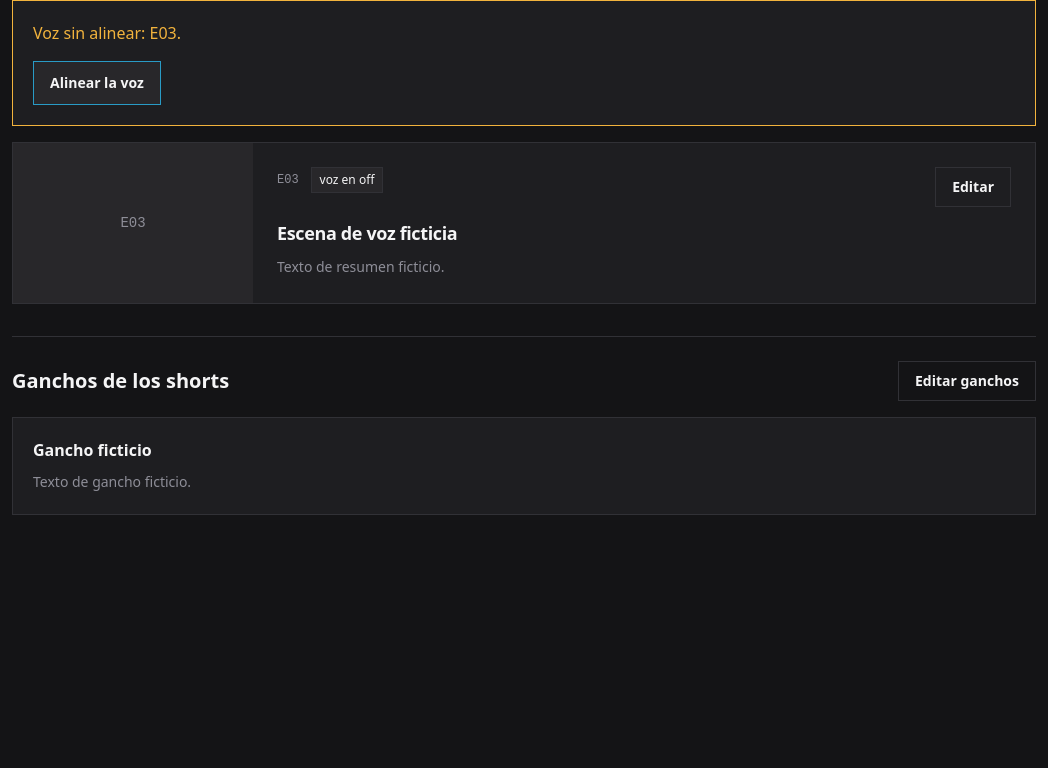
it: GuionEditable: aviso del montaje › al pasar de alinear la voz a preparar el montaje no arrastra estado ni enseña un Hecho antiguo
The width and height of the screenshot is (1048, 768).
Later steps or results of the test are not shown.
Click the button "Alinear la voz".
click(97, 83)  # box x1=33 y1=61 x2=161 y2=105
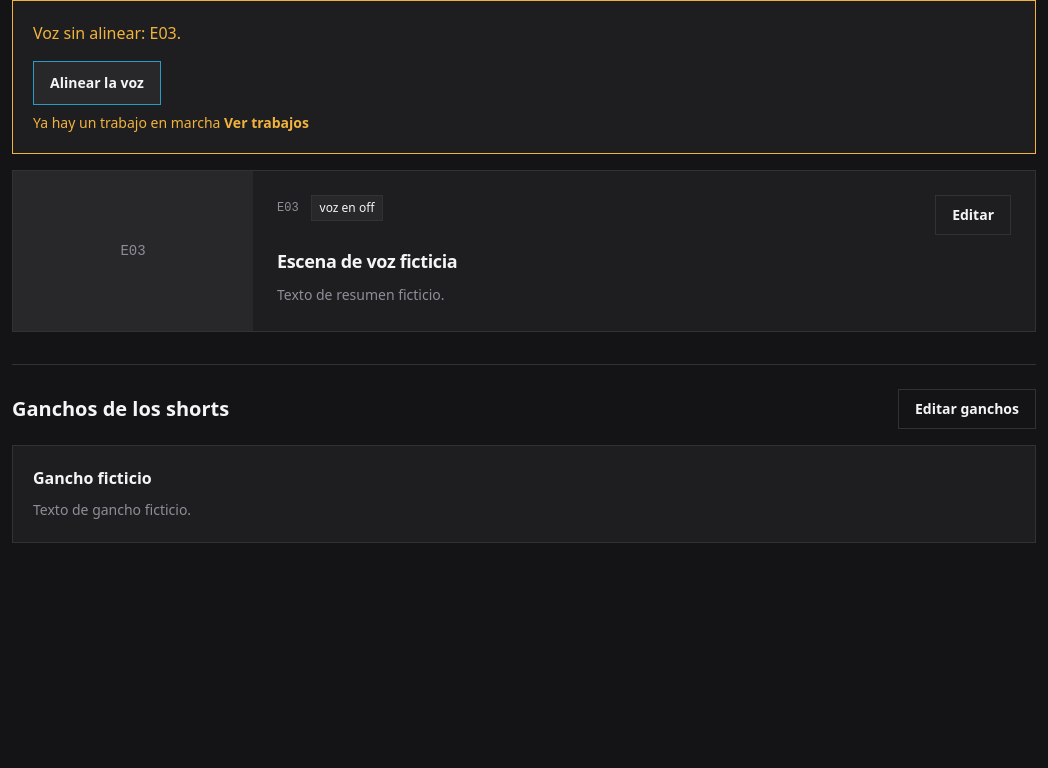
Result: the message shows "Ya hay un trabajo en marcha" at x1=33 y1=113 x2=220 y2=132
Click the button "Alinear la voz".
click(97, 83)  # box x1=33 y1=61 x2=161 y2=105
Wait 2000 ms
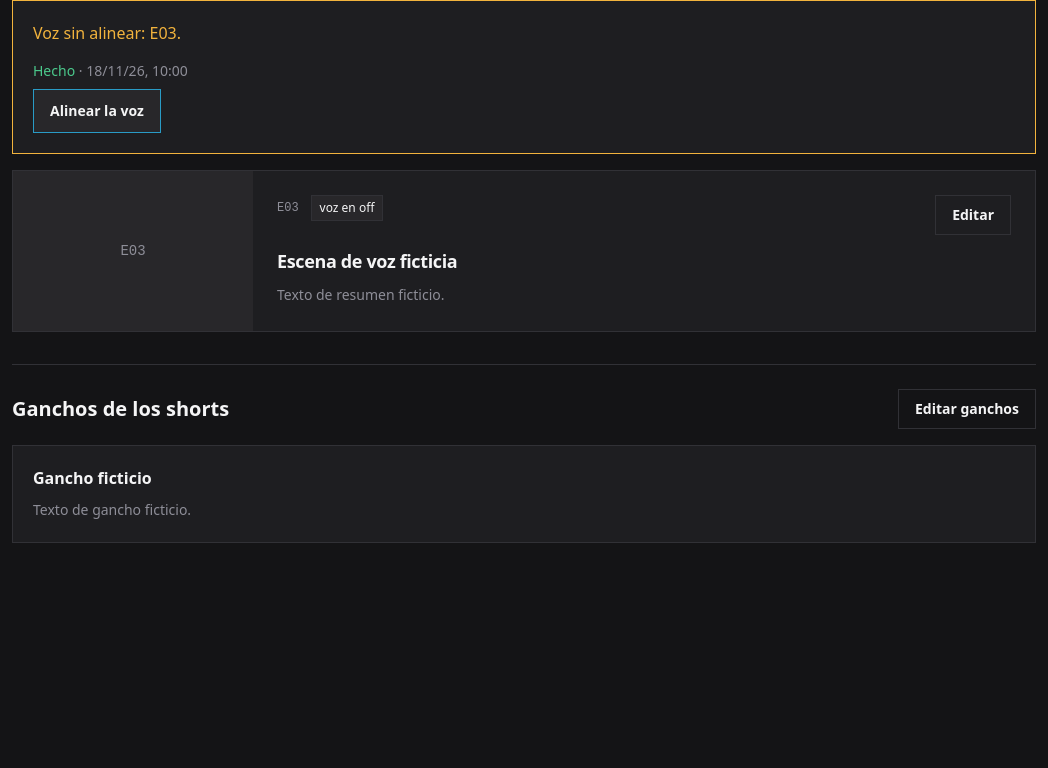
Result: the text "Hecho" is shown at x1=33 y1=61 x2=75 y2=80
